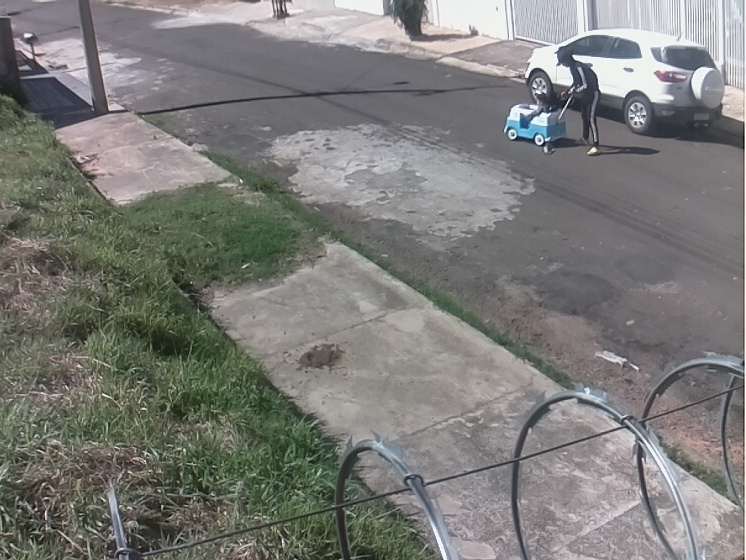person: (556, 50, 603, 156)
